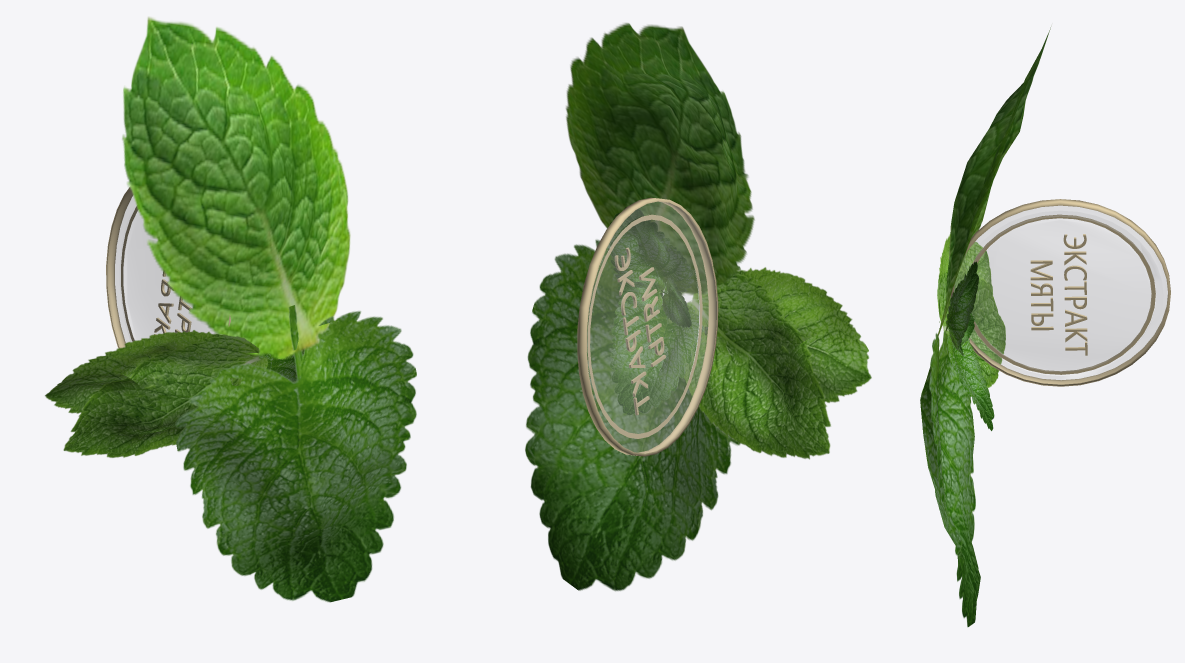
File: mint_with_lebel.glb
The picture shows the model from 3 angles, left to right: view 1: azimuth 30°, elevation 25°; view 2: azimuth 150°, elevation 25°; view 3: azimuth 270°, elevation 25°; orthographic projection. The views are drawn at different scales.
Parts seen in each view (by area): view 1: myata3, myata2_2, myata_2, lebel_2, gold2, object 1, myata2; view 2: myata2_2, myata3, lebel_2, myata_2, myata2, gold2, myata2_1, object 1, ring_1, myata2_4; view 3: lebel_2, myata2_2, myata3, myata_2, gold2, object 1, ring_1, myata2, myata2_1.
Boxes of the visible parts, x1,y1,x2,y2 form: myata3: (122, 16, 350, 359); myata2_2: (175, 305, 416, 602); myata_2: (45, 330, 267, 457); lebel_2: (108, 191, 215, 346); gold2: (106, 187, 230, 348); object 1: (154, 270, 191, 334); myata2: (258, 348, 304, 383); myata2_2: (525, 239, 740, 591); myata3: (565, 23, 754, 295); lebel_2: (587, 202, 716, 452); myata_2: (668, 267, 871, 459); myata2: (610, 283, 704, 415); gold2: (577, 197, 718, 456); myata2_1: (608, 207, 693, 294); object 1: (614, 247, 665, 415); ring_1: (587, 214, 702, 438); myata2_4: (618, 275, 691, 327); lebel_2: (954, 206, 1167, 383); myata2_2: (920, 299, 980, 627); myata3: (937, 27, 1050, 336); myata_2: (937, 234, 1005, 388); gold2: (951, 199, 1170, 386); object 1: (1030, 234, 1087, 355); ring_1: (972, 214, 1155, 374); myata2: (946, 323, 994, 430); myata2_1: (944, 261, 978, 349).
Bounding box in the file's own units: 0.4109 × 0.5899 × 0.2381.
Materials: 5 (5 with a texture image).
